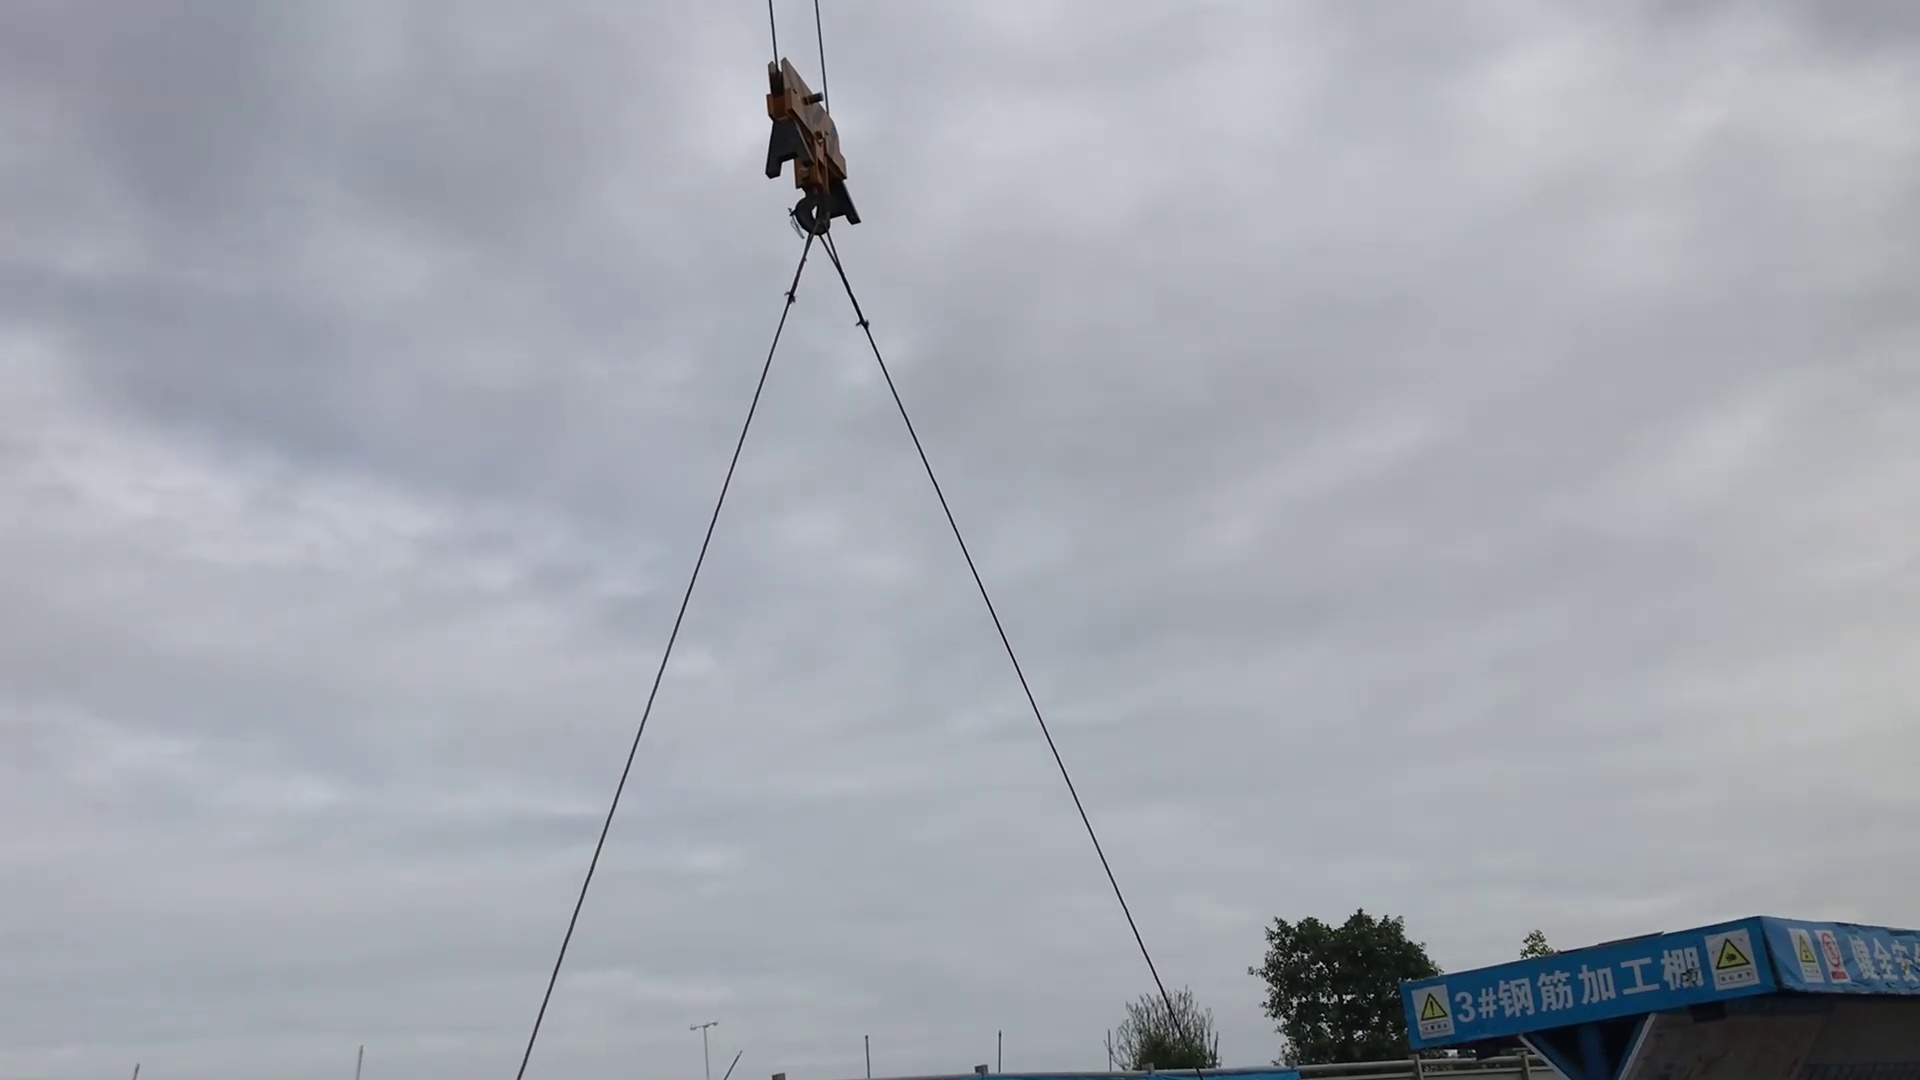hook: (748, 47, 876, 249)
